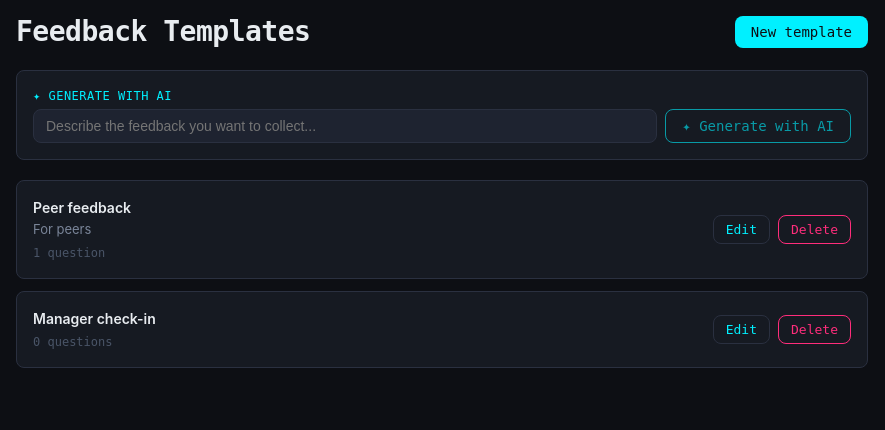
Scenario: FeedbackTemplatesPage › shows an inline AI error and does not open the builder on {error}
This screenshot has width=885, height=430.
Type "peer review" into the field with test id "feedback-templates-ai-brief". click: x=345, y=126
box: [33,109,657,143]
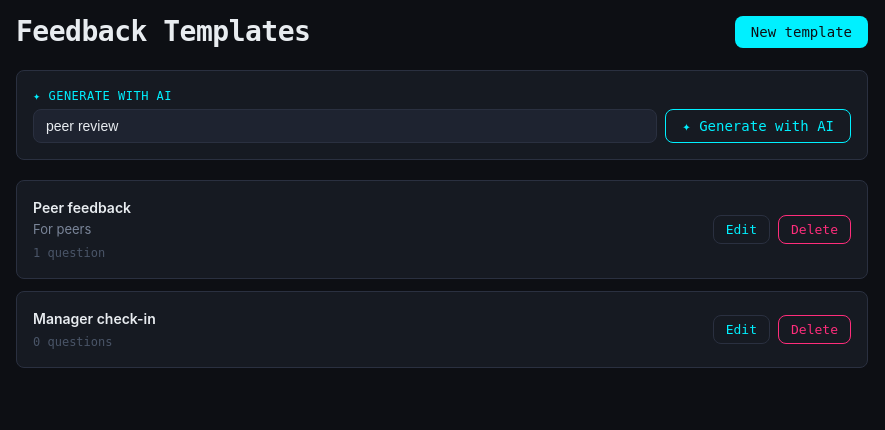
Click the button with test id "feedback-templates-ai-generate-btn". click: x=758, y=126
box: [665,109,851,143]
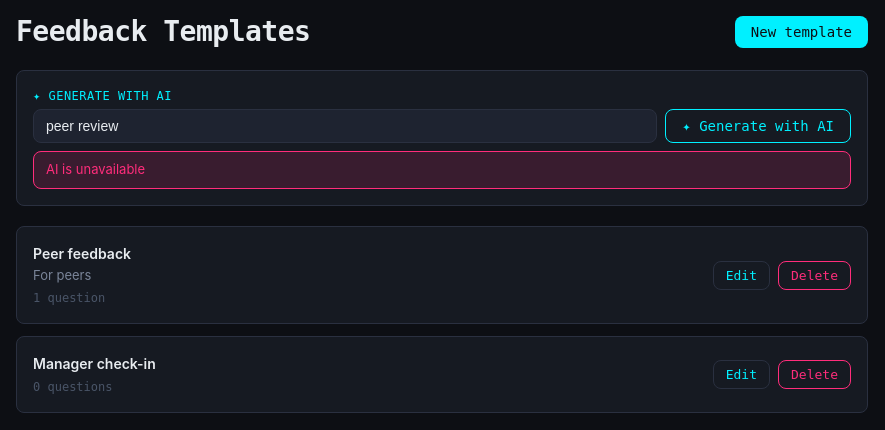
Expected: the text with test id "feedback-templates-ai-error" reads "AI is unavailable", [46,161,145,177]
